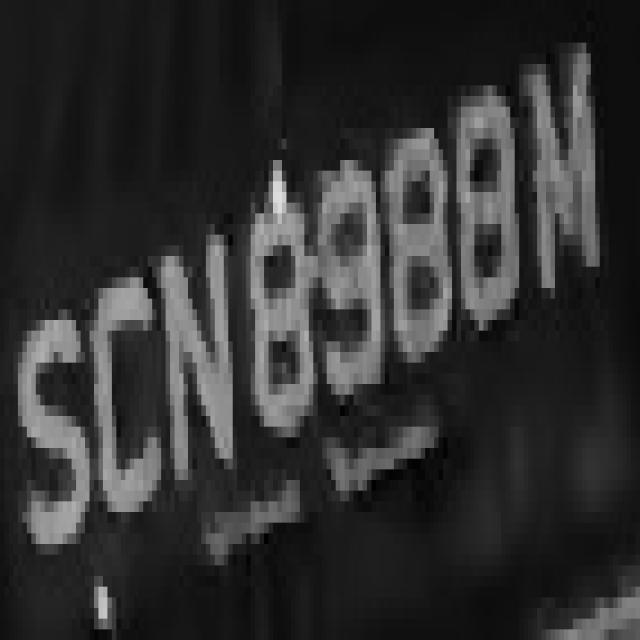8: (228, 181, 322, 459), (371, 107, 452, 384), (448, 75, 519, 373)
9: (296, 139, 390, 437)
C: (76, 235, 166, 533)
M: (515, 53, 604, 331)
N: (152, 235, 237, 522)
S: (0, 278, 90, 598)
